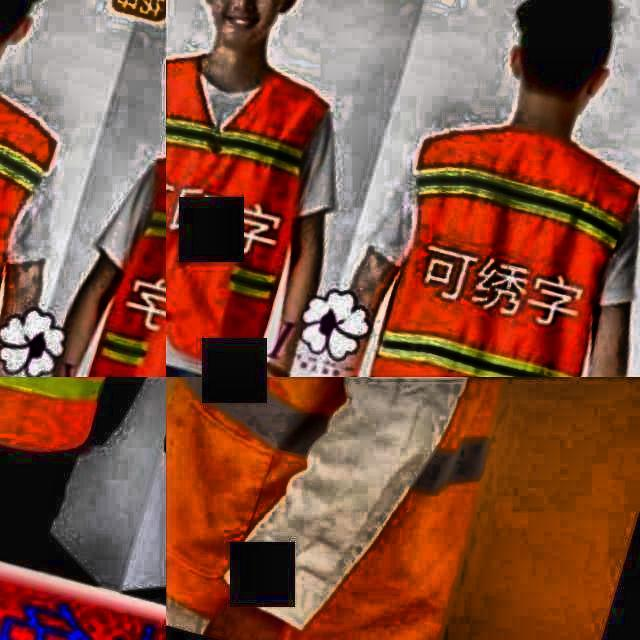safety_jacket: (166, 377, 599, 640), (352, 111, 640, 377), (166, 38, 348, 372), (84, 141, 166, 377), (0, 51, 58, 377), (0, 377, 166, 468)
